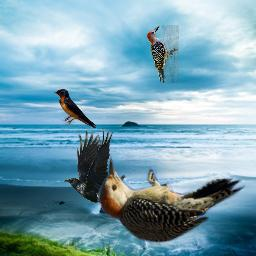Crow: (63, 127, 126, 217)
Swallow: (53, 89, 96, 129)
Woodpecker: (87, 152, 251, 245), (145, 25, 179, 83)
